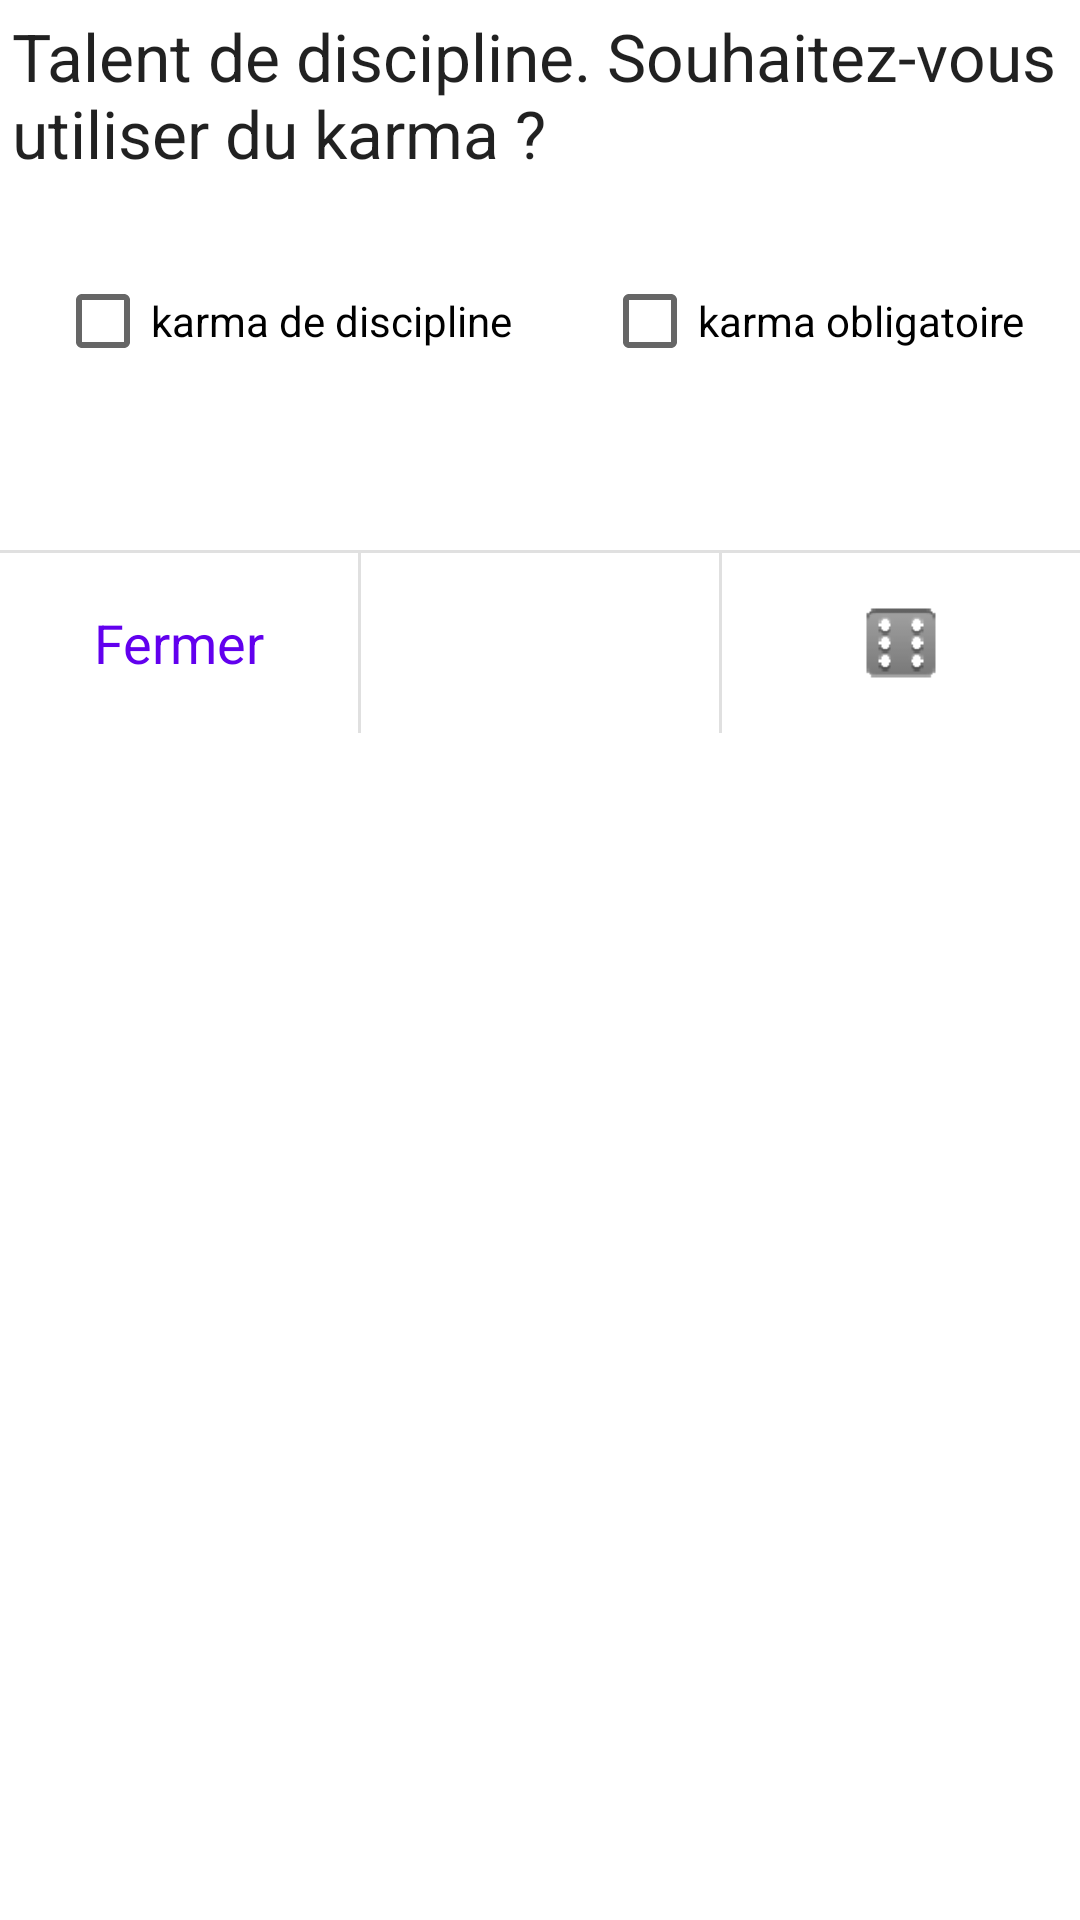

Icon click points for this 1080px×1920px phone screenshot, format point (x, y):
Lancer les dés: point (901, 643)
